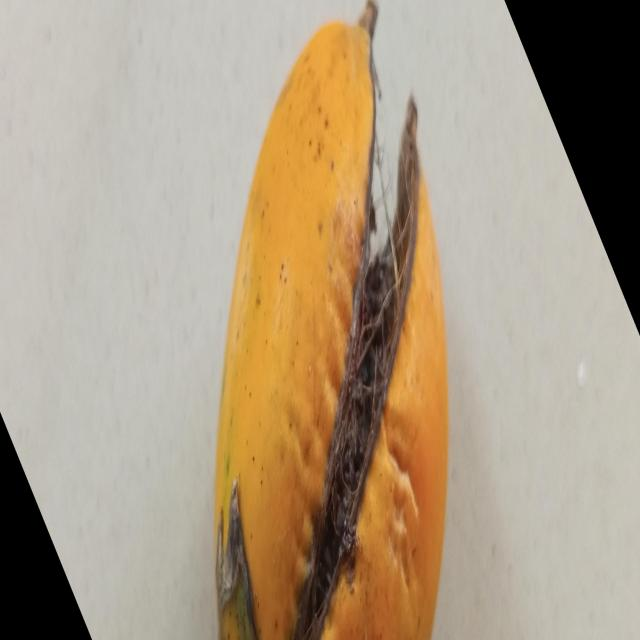damaged: (213, 10, 449, 640)
